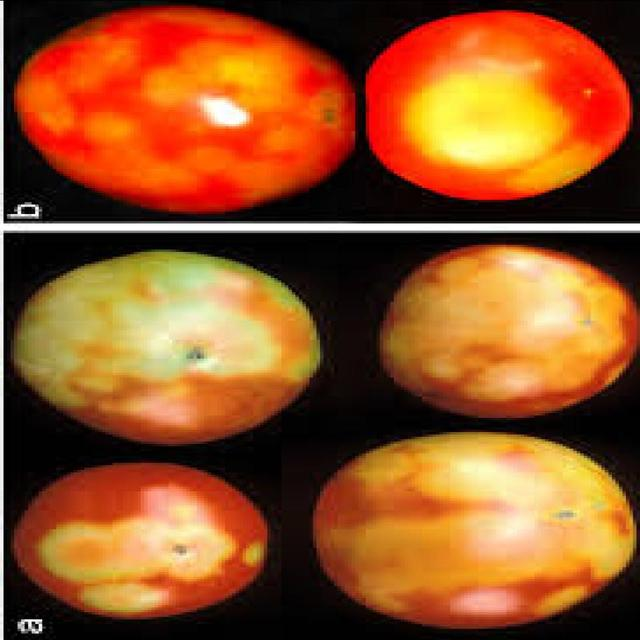Spotted wilt Virus Fruit: (93, 70, 338, 361)
